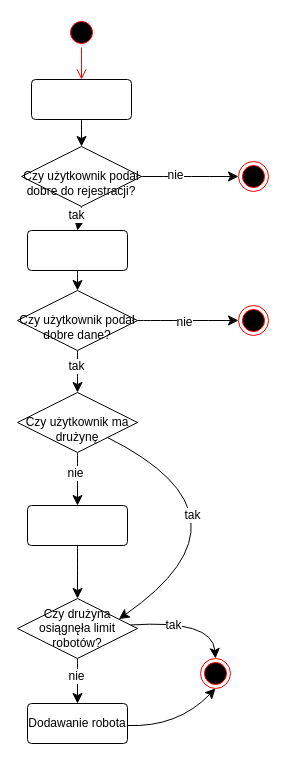
The diagram is 286 pixels wide and 771 high, and some of its shapes have lost their labels. The centre of each missing label's shape, as x and y in pixels:
"Dołączanie albo tworzenie drużyny" goes at pixel 77 525.
"Formularz rejestracyjny" goes at pixel 81 99.
"Logowanie" goes at pixel 77 250.
